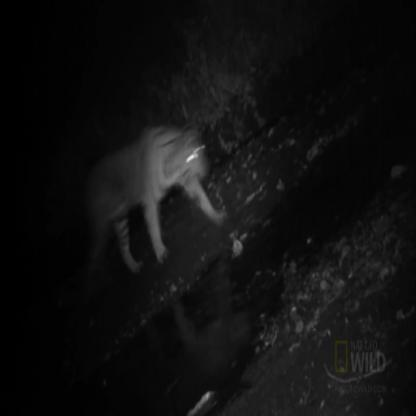Tiger: (96, 122, 224, 264)
